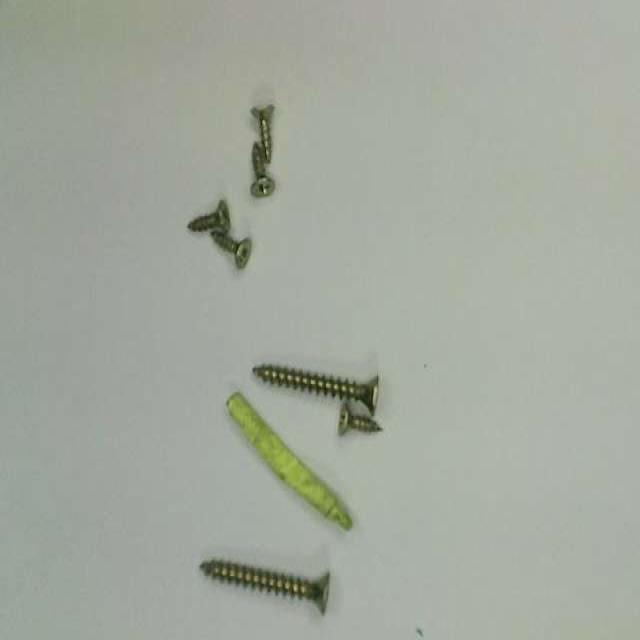Parafuso: (200, 559, 328, 613), (254, 364, 377, 412), (187, 200, 229, 233), (339, 403, 381, 435), (212, 232, 250, 267), (251, 105, 273, 163), (251, 143, 274, 197)
